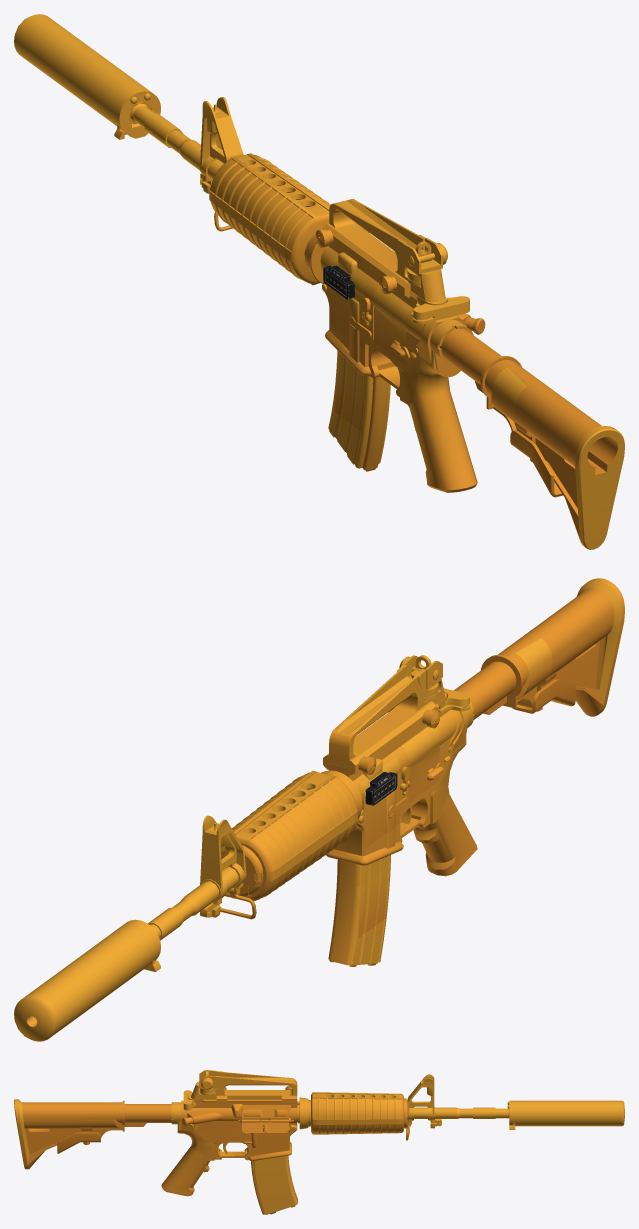
The picture shows the model from 3 angles, top to bottom: view 1: azimuth 30°, elevation 25°; view 2: azimuth 150°, elevation 25°; view 3: azimuth 270°, elevation 25°; orthographic projection. The views are drawn at different scales.
Visible parts, largest first — view 1: LOD_Template, Magazine1, Sticker3, Sticker1, Sticker2, Sticker4, Gunlock1, StatTrack.001; view 2: LOD_Template, Magazine1, Sticker3, Sticker1, Sticker2, Sticker4, StatTrack.001; view 3: LOD_Template, Magazine1, Gunlock1.
Part boxes in pixels (<box>): LOD_Template: <box>14,14,624,549</box>; Magazine1: <box>328,350,390,471</box>; Sticker3: <box>373,286,412,365</box>; Sticker1: <box>328,256,368,348</box>; Sticker2: <box>335,363,363,432</box>; Sticker4: <box>492,367,526,428</box>; Gunlock1: <box>411,296,469,323</box>; StatTrack.001: <box>323,265,354,299</box>; LOD_Template: <box>14,578,624,1041</box>; Magazine1: <box>328,855,390,966</box>; Sticker3: <box>401,726,444,803</box>; Sticker1: <box>360,756,401,848</box>; Sticker2: <box>356,867,386,937</box>; Sticker4: <box>515,638,552,694</box>; StatTrack.001: <box>365,772,397,805</box>; LOD_Template: <box>14,1070,624,1196</box>; Magazine1: <box>251,1155,297,1214</box>; Gunlock1: <box>183,1090,288,1116</box>.
Size of the model in its own units: 0.076 by 0.2548 by 0.9912.
6 materials, 6 textured.
